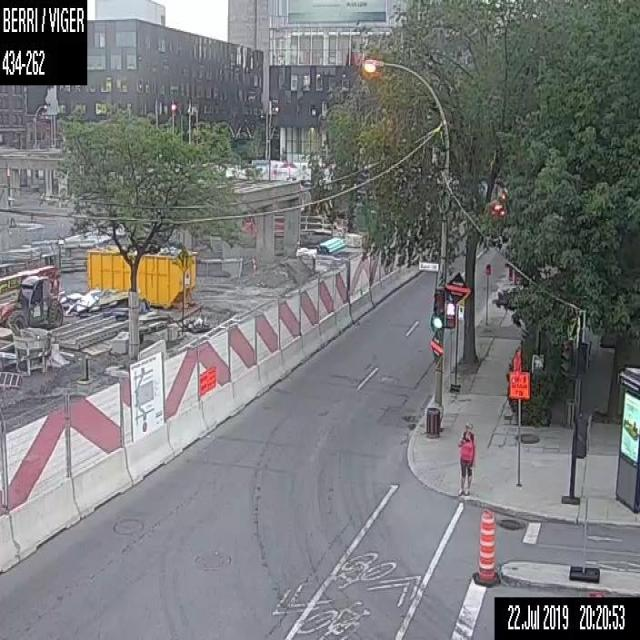construction: (509, 355, 529, 487), (473, 508, 498, 585)
pedestrian: (456, 420, 474, 495)
